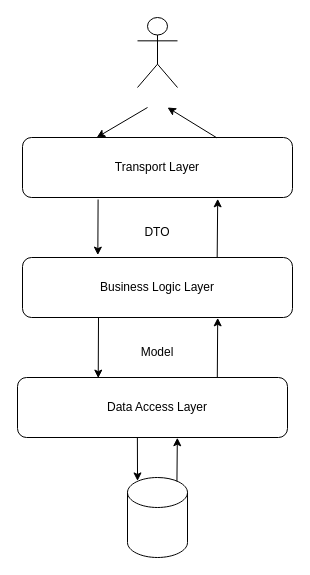
Image size: 310x575. Some labels were removed from this diagram. Each missing label, with the box of its shape:
Database: (126, 476, 188, 558)
User: (136, 16, 178, 88)
